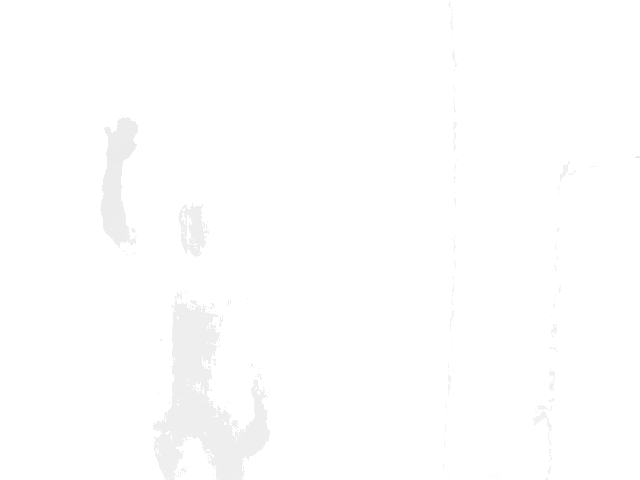hand: (101, 116, 139, 162)
head: (177, 199, 213, 258)
person: (99, 116, 273, 479)
